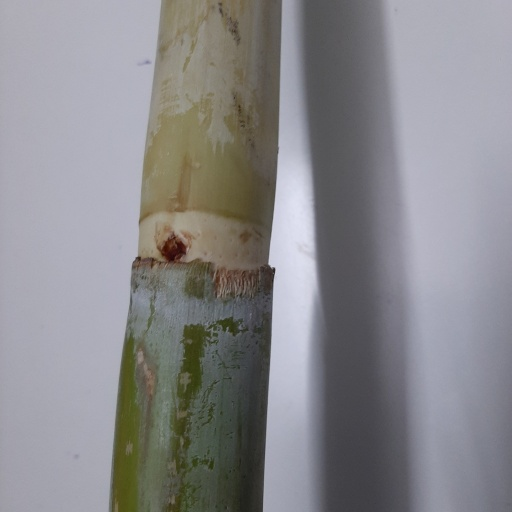Damage_Bud: (158, 229, 186, 262)
